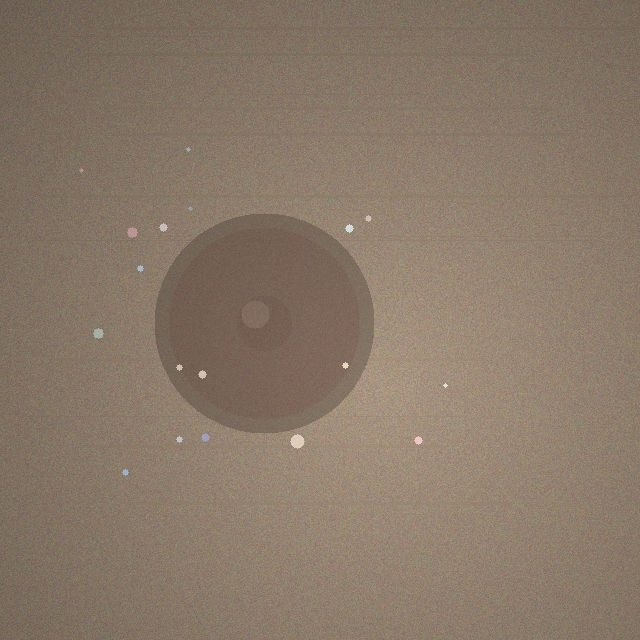overburn: (154, 213, 374, 433)
